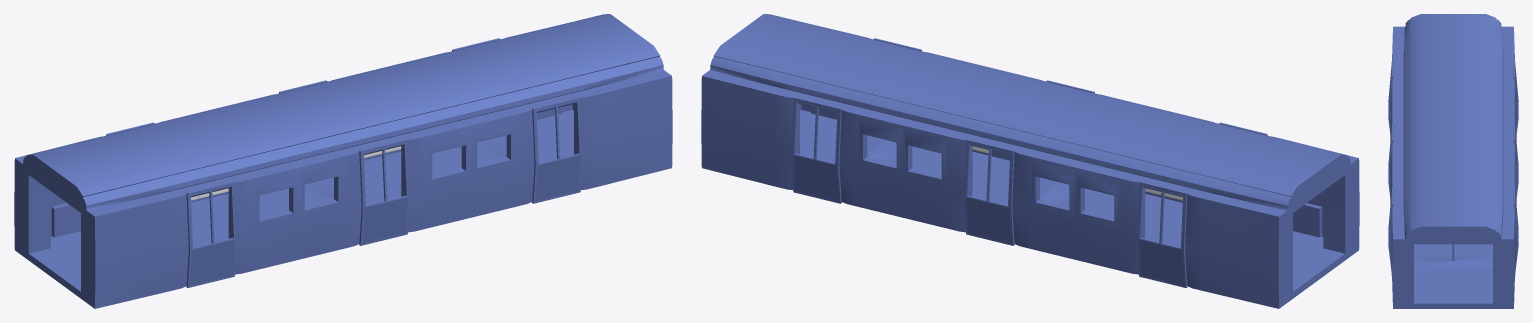
File: Train_Test.fbx
The picture shows the model from 3 angles, left to right: view 1: azimuth 30°, elevation 25°; view 2: azimuth 150°, elevation 25°; view 3: azimuth 270°, elevation 25°; orthographic projection. The views are drawn at different scales.
Visible parts, largest first — view 1: Box066, Shape002; view 2: Box066, Shape002; view 3: Box066, Shape002.
Boxes of the visible parts, x1,y1,x2,y2 form: Box066: (14, 14, 672, 308); Shape002: (106, 38, 582, 287); Box066: (701, 14, 1359, 308); Shape002: (791, 38, 1267, 287); Box066: (1390, 14, 1516, 308); Shape002: (1388, 59, 1518, 268).
Size of the model in its own units: 1537 by 280 by 398.
